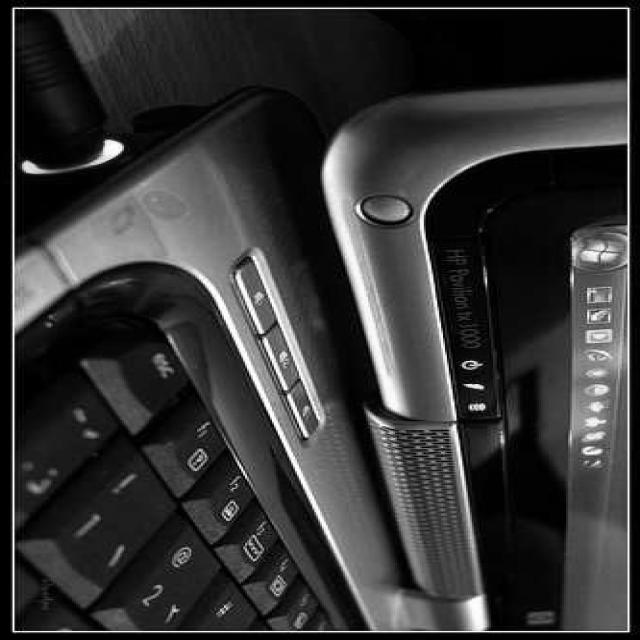laptop: (0, 135, 629, 637)
